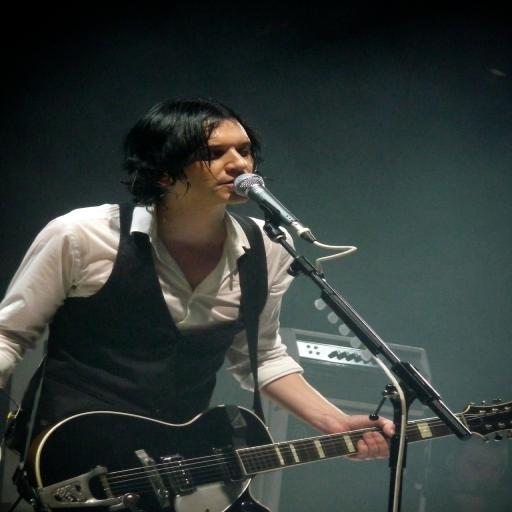Person: (59, 78, 376, 510)
no_gloves: (302, 379, 394, 477)
no_goggle: (175, 137, 264, 173)
no_helmet: (153, 93, 270, 213)
none: (82, 208, 284, 406)
